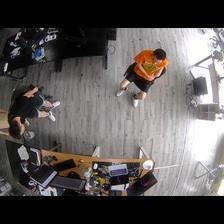normal: (115, 47, 170, 111), (6, 85, 62, 140)
